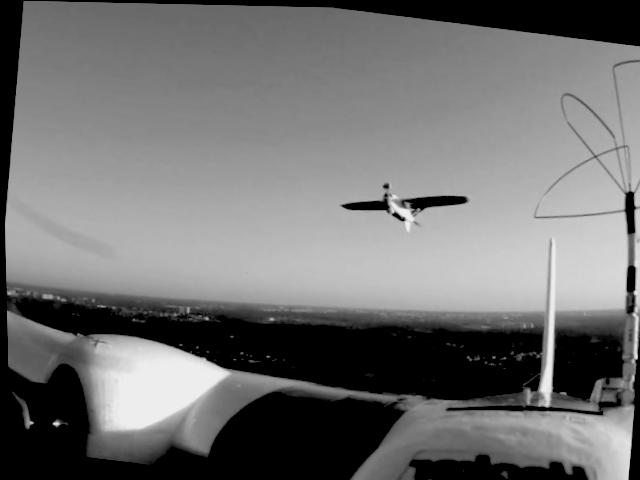hedef: (320, 156, 478, 257)
